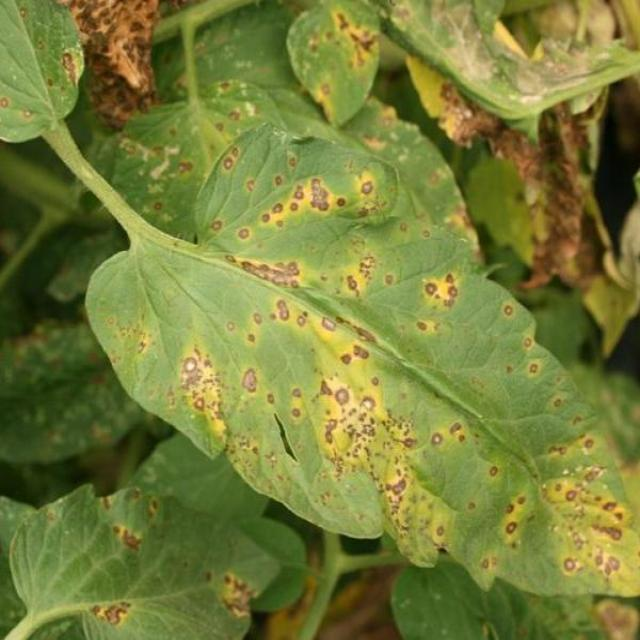Septoria: (150, 93, 470, 308), (179, 313, 468, 483), (490, 306, 622, 594), (0, 5, 76, 140)
